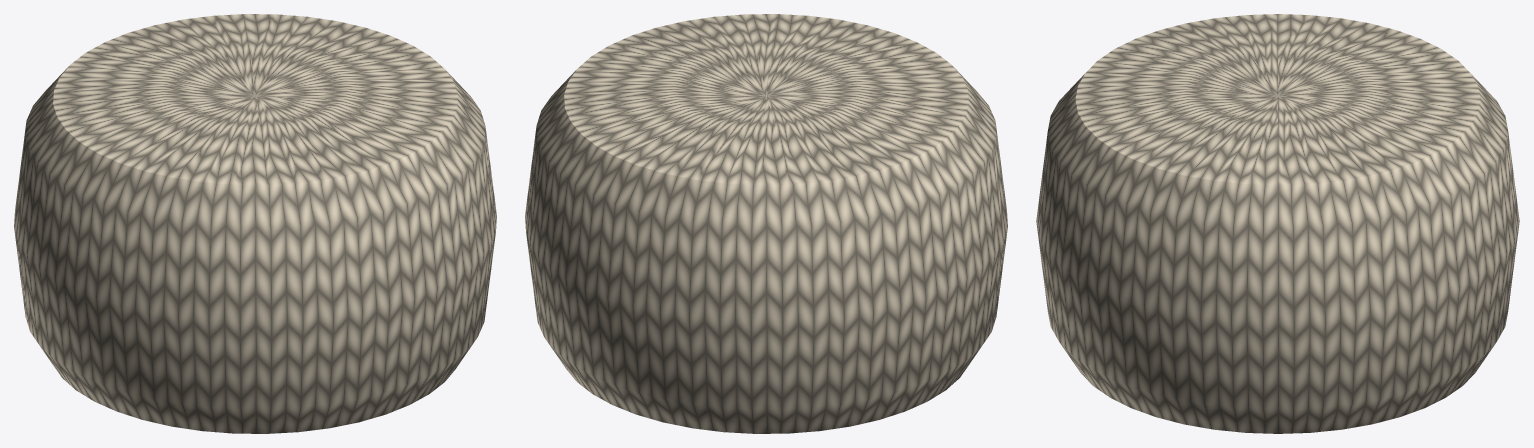
The model's file is knit_pouf.glb.
3 views of the same model, side by side, from view 1: azimuth 30°, elevation 25°; view 2: azimuth 150°, elevation 25°; view 3: azimuth 270°, elevation 25° (orthographic).
Visible parts, largest first — view 1: model; view 2: model; view 3: model.
Part boxes in pixels (left/top/right/bottom): model: left=14, top=14, right=496, bottom=433; model: left=525, top=14, right=1007, bottom=433; model: left=1036, top=14, right=1519, bottom=433.
Bounding box in the file's own units: 0.63 × 0.37 × 0.63.
Materials: 1 (1 with a texture image).
